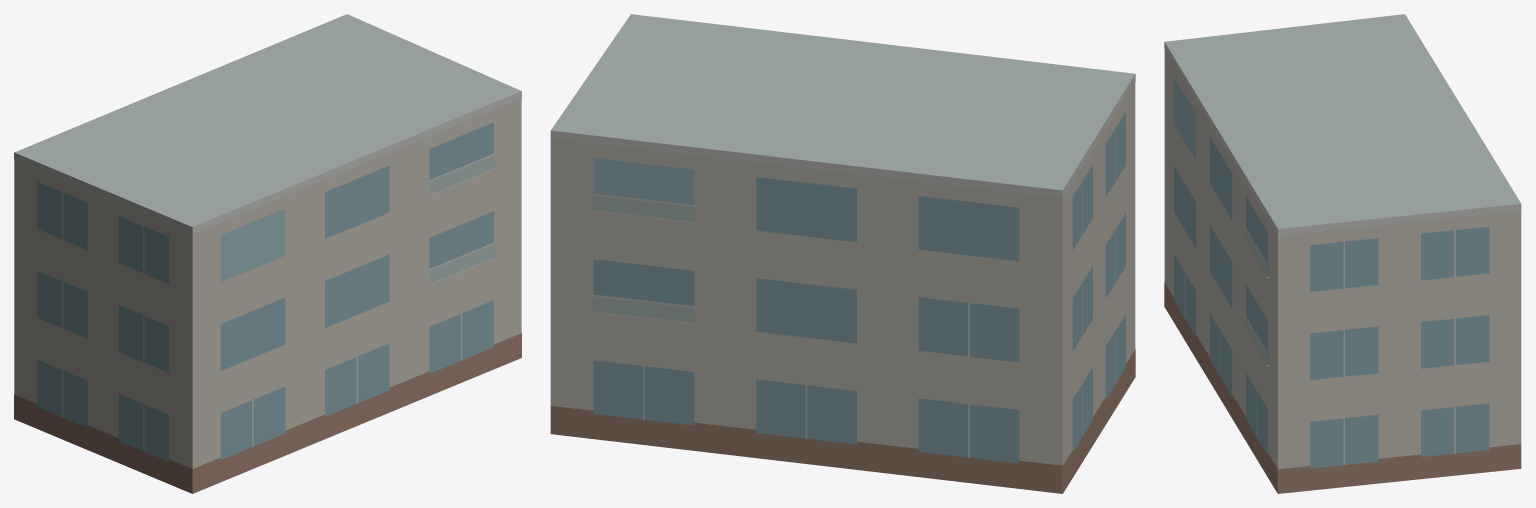
File: survey-upis-32721289.glb
3 views of the same model, side by side, from view 1: azimuth 30°, elevation 25°; view 2: azimuth 150°, elevation 25°; view 3: azimuth 270°, elevation 25° (orthographic). The views are drawn at different scales.
Parts seen in each view (by area): view 1: survey-upis-32721289.tmp; view 2: survey-upis-32721289.tmp; view 3: survey-upis-32721289.tmp.
Boxes of the visible parts, bbox=[...] form: survey-upis-32721289.tmp: bbox=[14, 14, 521, 493]; survey-upis-32721289.tmp: bbox=[550, 14, 1135, 493]; survey-upis-32721289.tmp: bbox=[1164, 14, 1521, 493].
Size of the model in its own units: 15.93 by 9.15 by 11.18.
